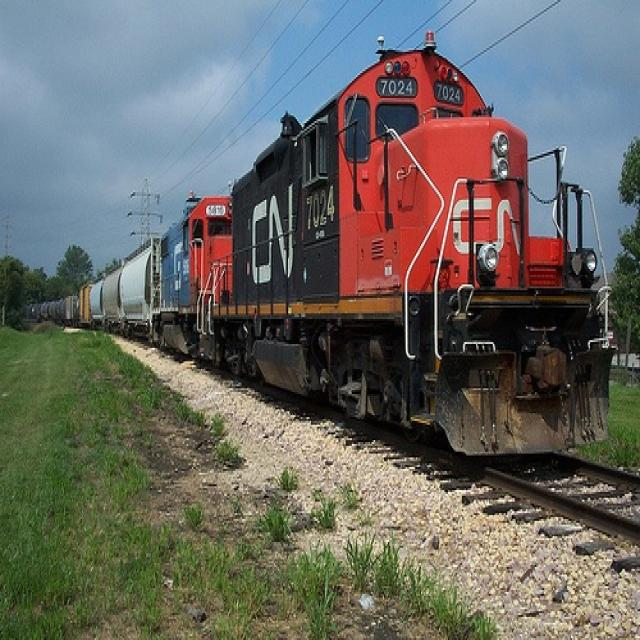train: (24, 47, 619, 470)
